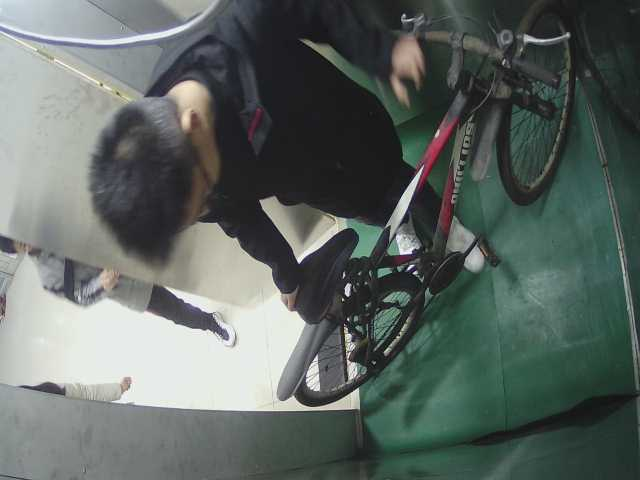bicycle: (273, 1, 572, 412)
person: (76, 2, 442, 281)
